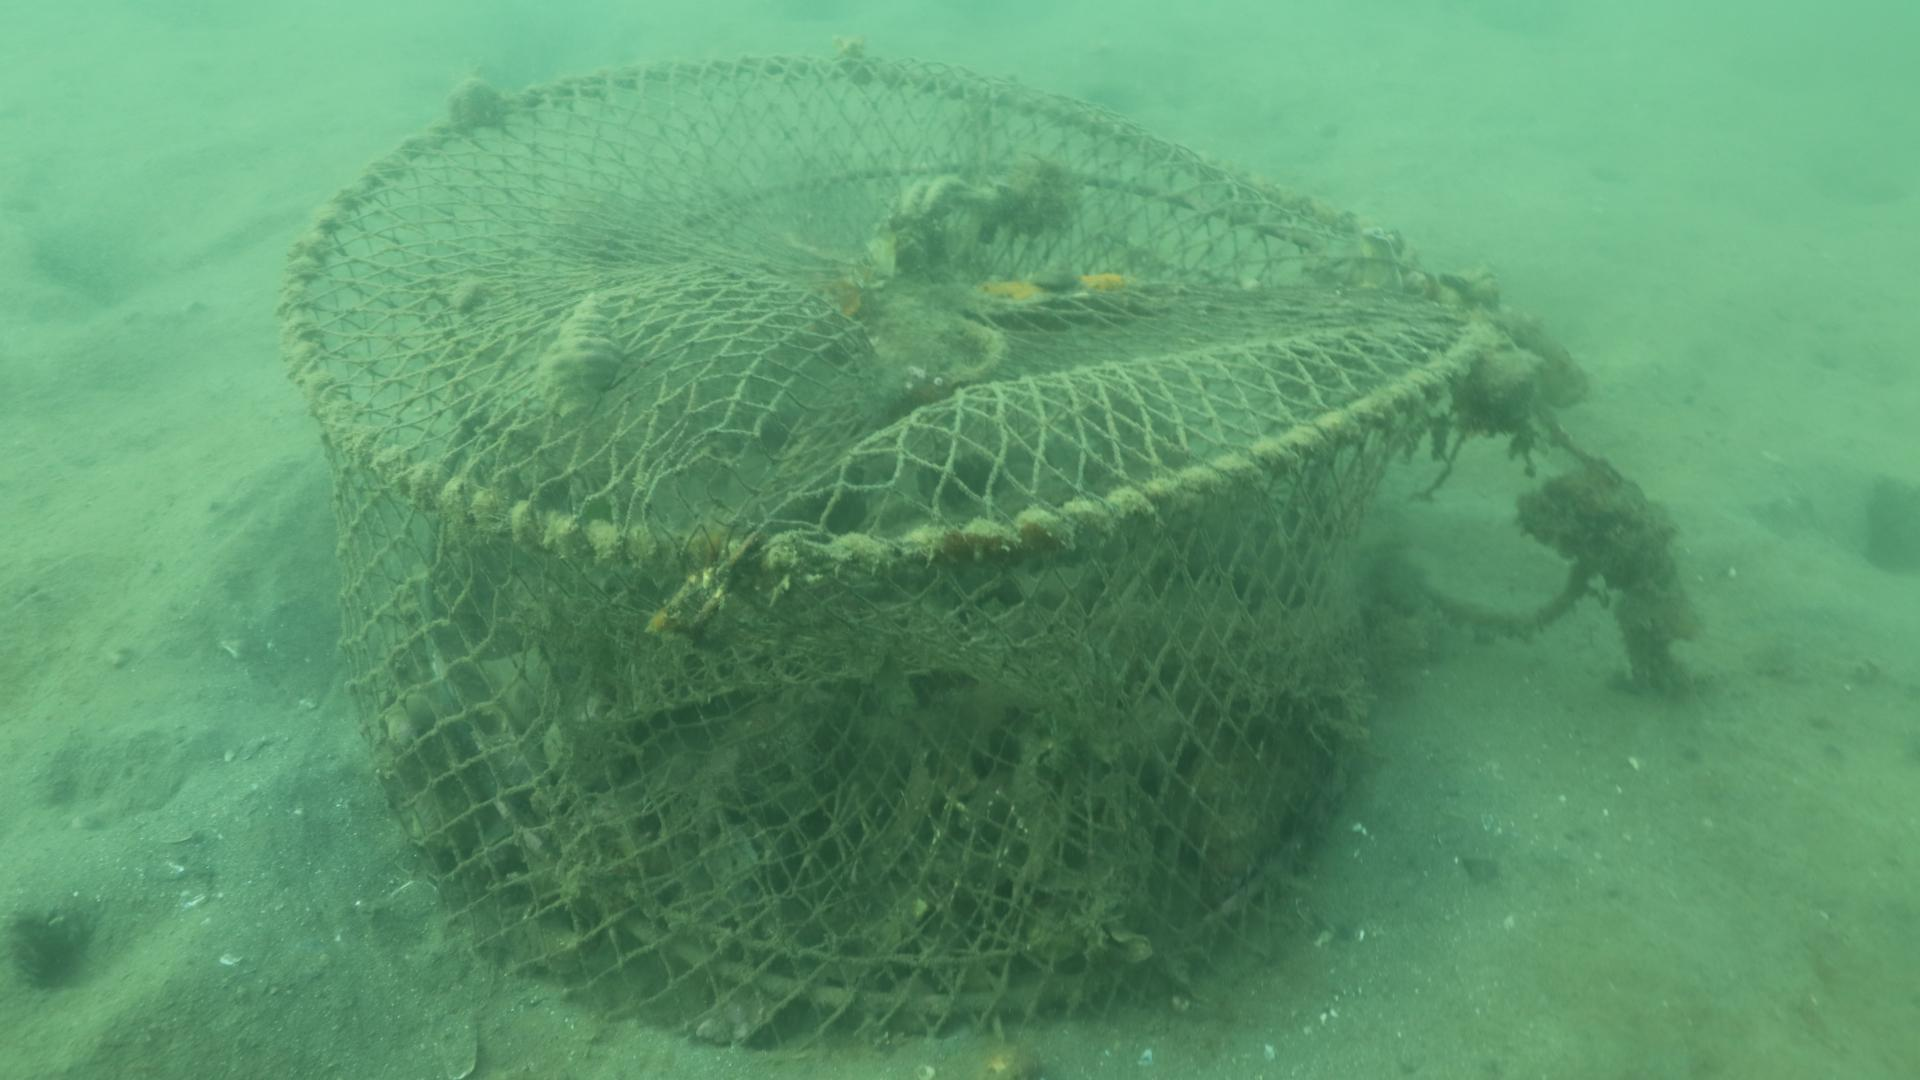circular fish trap: (280, 51, 1505, 1046)
